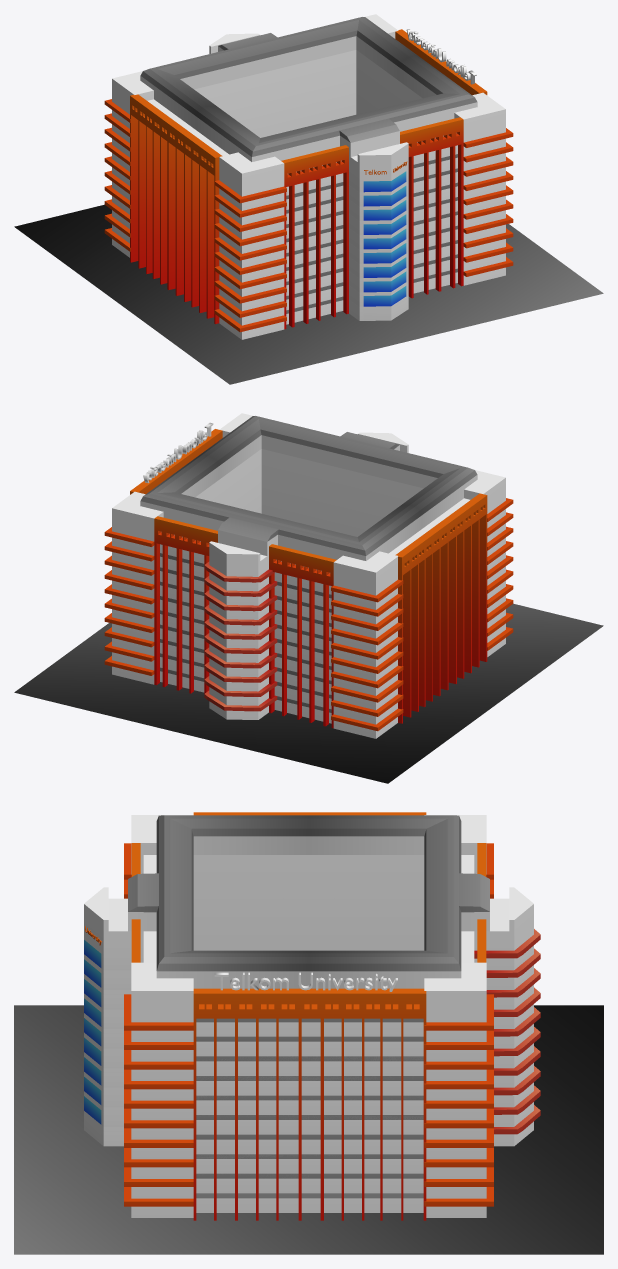
Rendered from Gedung GKU.fbx.
3 views of the same model, one above another, from view 1: azimuth 30°, elevation 25°; view 2: azimuth 150°, elevation 25°; view 3: azimuth 270°, elevation 25° (orthographic). The views are drawn at different scales.
Visible parts, largest first — view 1: Plane.008; view 2: Plane.008; view 3: Plane.008.
Boxes of the visible parts, x1,y1,x2,y2 form: Plane.008: (14, 14, 603, 384); Plane.008: (14, 413, 603, 783); Plane.008: (14, 812, 603, 1254).
Bounding box in the file's own units: 2409 × 1099 × 2409.
Materials: 1 (1 with a texture image).
